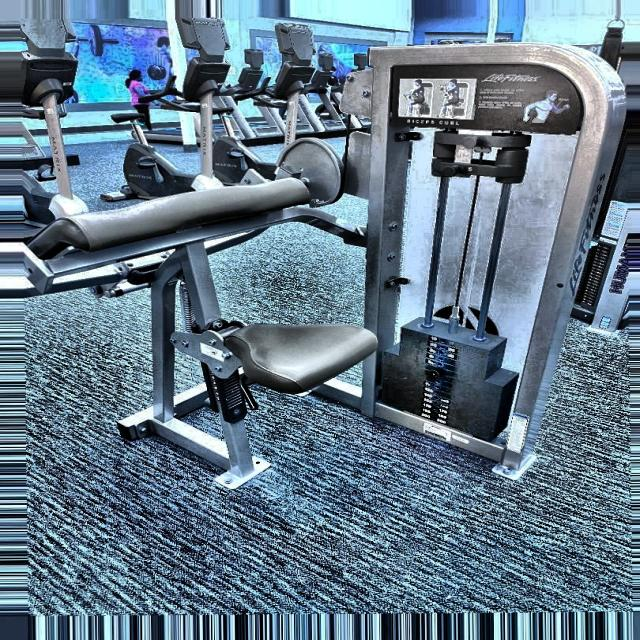bicep_curl_machine: (32, 11, 632, 496)
